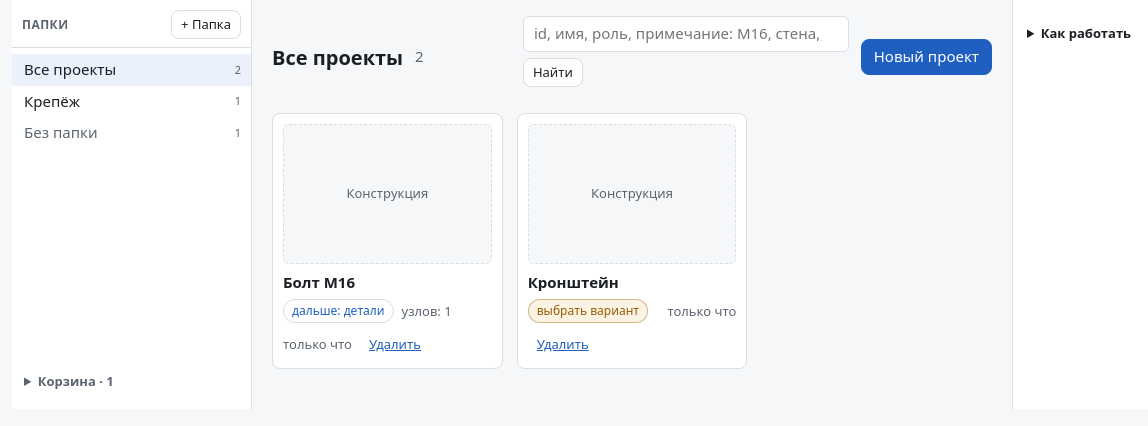
Test case: Стартовый экран › показывает папки, проекты папки без узлов, что дальше, корзину
The width and height of the screenshot is (1148, 426).
expect the text "Болт М16" is shown: met, box [283,272,355,292]
expect the text "Кронштейн" is shown: met, box [528,272,619,292]
Note: папка «Крепёж» — только болт
Click the text "Крепёж" at x=52, y=102, box [24,91,80,112]
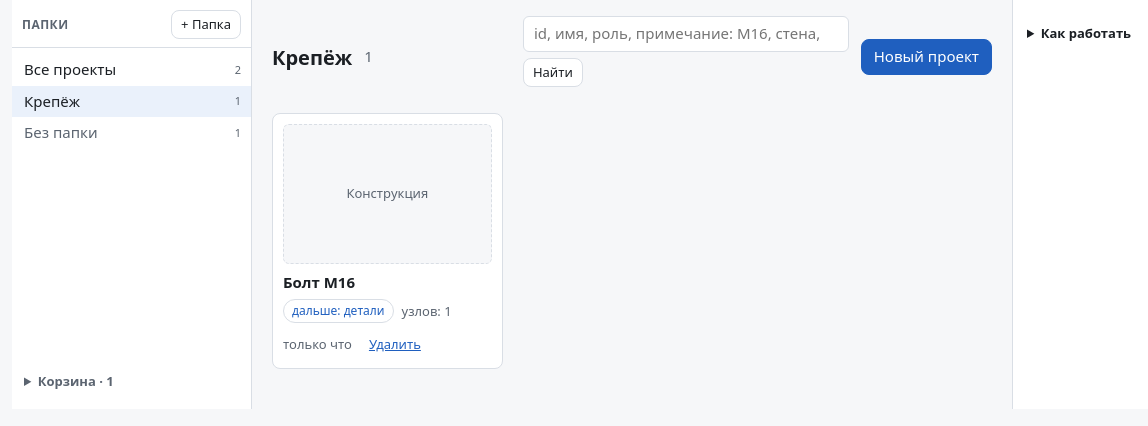
expect the text "Болт М16" is shown: met, box [283,272,355,292]
expect the link "Кронштейн" is gone: met
